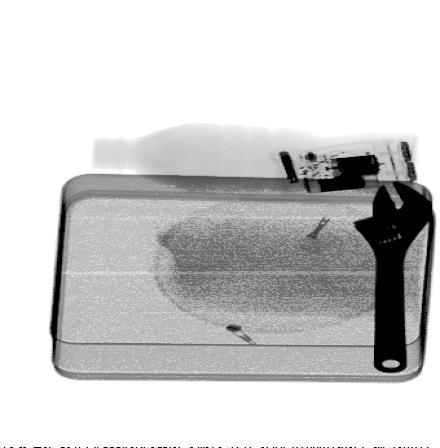Wrench: (348, 179, 435, 374)
